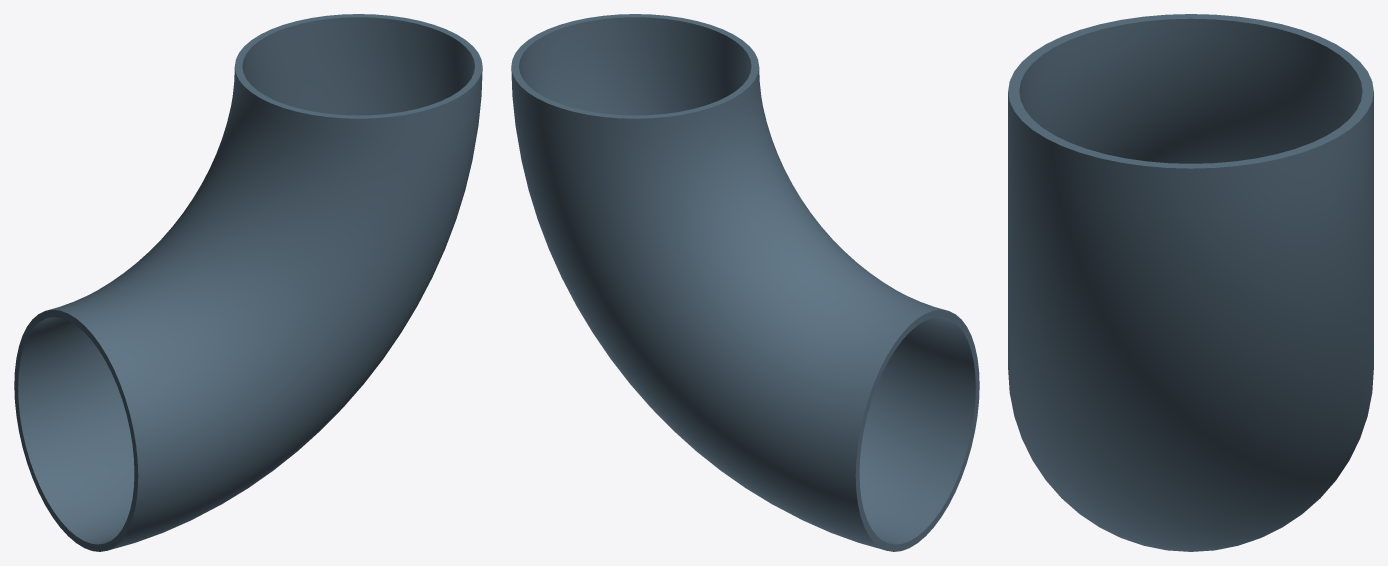
Rendered from otvod-90-114x3_5-R150.glb.
3 renders of one model, left to right at view 1: azimuth 30°, elevation 25°; view 2: azimuth 150°, elevation 25°; view 3: azimuth 270°, elevation 25°, orthographic. The views are drawn at different scales.
Visible parts, largest first — view 1: Open CASCADE STEP translator 7.9 42; view 2: Open CASCADE STEP translator 7.9 42; view 3: Open CASCADE STEP translator 7.9 42.
Part boxes in pixels (x1=…): Open CASCADE STEP translator 7.9 42: x1=14, y1=14, x2=482, y2=551; Open CASCADE STEP translator 7.9 42: x1=511, y1=14, x2=979, y2=551; Open CASCADE STEP translator 7.9 42: x1=1008, y1=14, x2=1373, y2=551.
Size of the model in its own units: 207 by 207 by 114.
